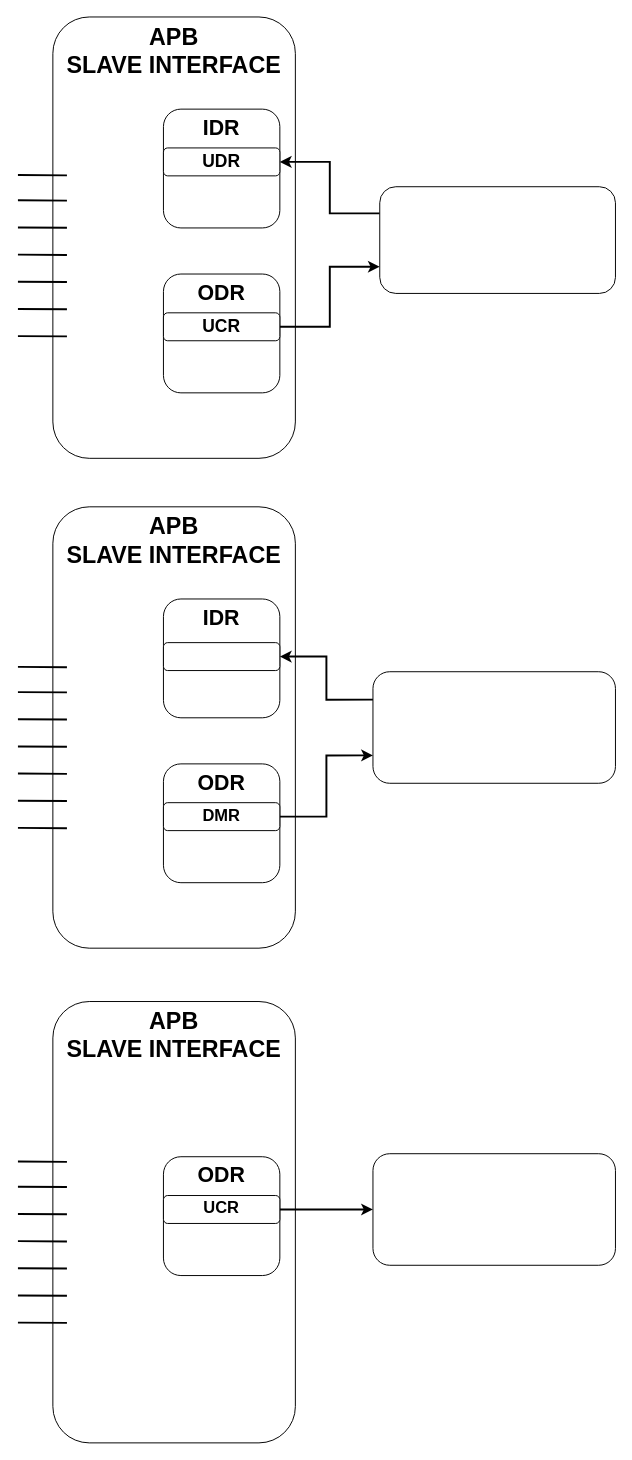
This 632x1460 diagram has some shape labels left out. Here are the shapes that lost their labels. From the top down, the centre of each, then its label:
At point 497,239: "UltraSonic Peripheral".
At point 221,656: "DDR".
At point 493,727: "Humidity Peripheral".
At point 493,1209: "Blink Peripheral".
